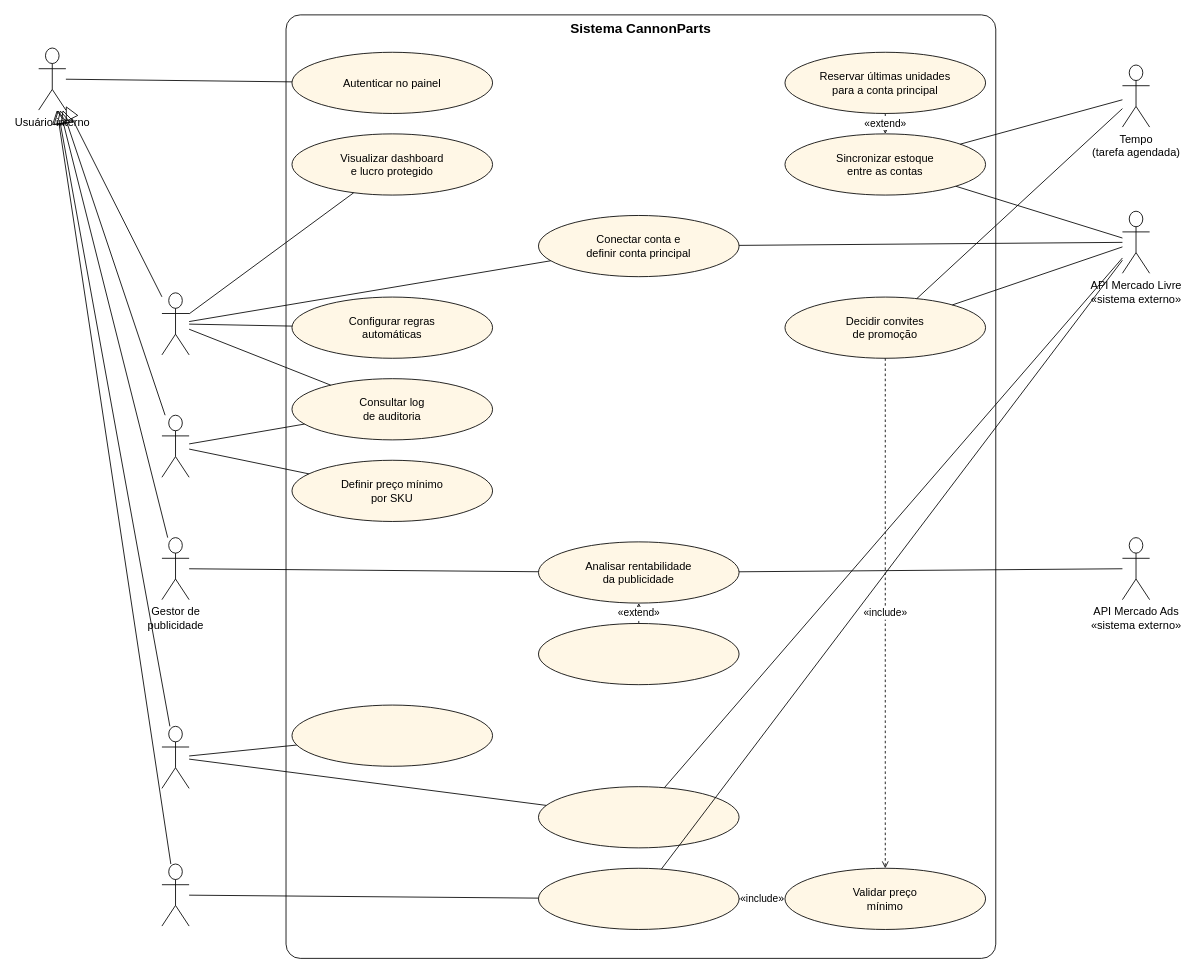
The diagram is 1196 pixels wide and 973 high, and some of its shapes have lost their labels. Here are the shapes that lost their labels. From the top down, the box of each, then its label:
(161, 292, 189, 355): Dono da loja
(161, 414, 189, 477): Analista de estoque e precificação
(538, 623, 739, 685): Gerar alerta de publicidade
(291, 704, 493, 766): Ajustar estoque após contagem
(161, 725, 189, 788): Operador de estoque
(538, 786, 739, 848): Revisar anúncios sem SKU
(161, 863, 189, 926): Assistente de cadastro
(538, 867, 739, 929): Cadastrar anúncios em lote
